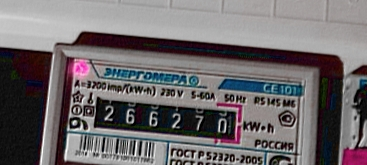0: (215, 116, 229, 134)
2: (101, 102, 115, 122), (169, 110, 182, 129)
6: (123, 106, 137, 125), (146, 109, 160, 128)
7: (192, 112, 205, 131)
screen: (82, 86, 249, 150)
